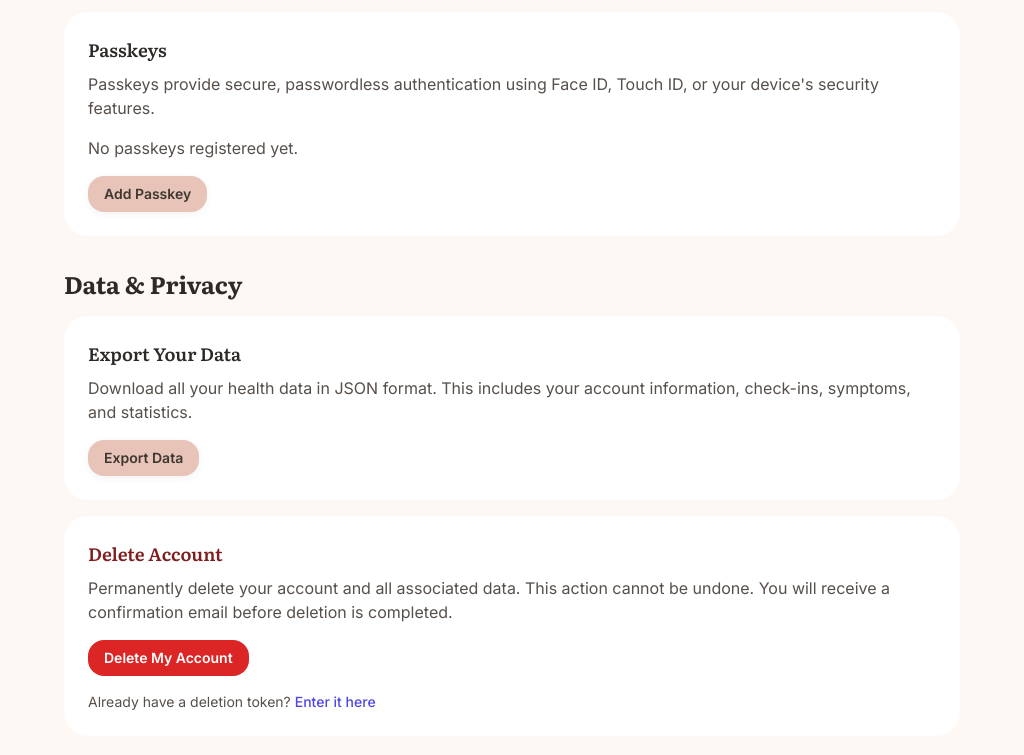
Test: SettingsPage › Export Data › should export data when export button is clicked
(page scrolled)
Click the button "Export Data": point(144, 458) [88,440,199,476]
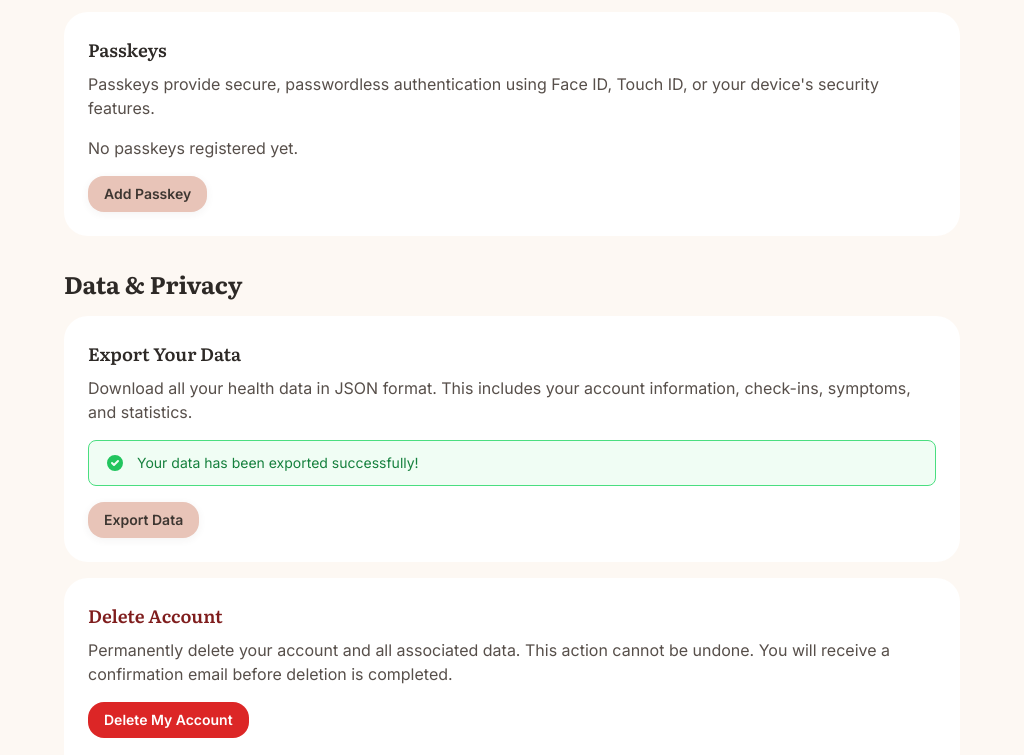
Result: the text "Your data has been exported successfully!" is shown at [137,454,419,471]
